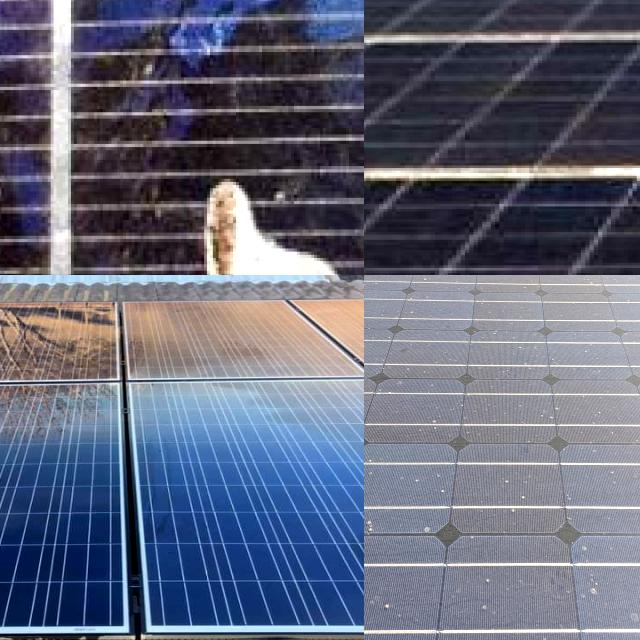bird: (167, 177, 364, 275), (0, 166, 36, 213)
crack: (81, 359, 364, 640), (0, 370, 202, 640), (100, 294, 364, 395), (0, 298, 167, 394)
dust: (364, 39, 640, 170), (439, 275, 640, 435), (488, 456, 640, 640), (364, 442, 476, 640), (436, 180, 640, 275), (364, 275, 463, 440), (364, 183, 487, 275), (364, 0, 640, 41), (364, 464, 412, 640), (364, 0, 640, 27), (377, 275, 540, 319), (552, 275, 640, 316), (364, 275, 423, 323), (364, 275, 387, 305)
